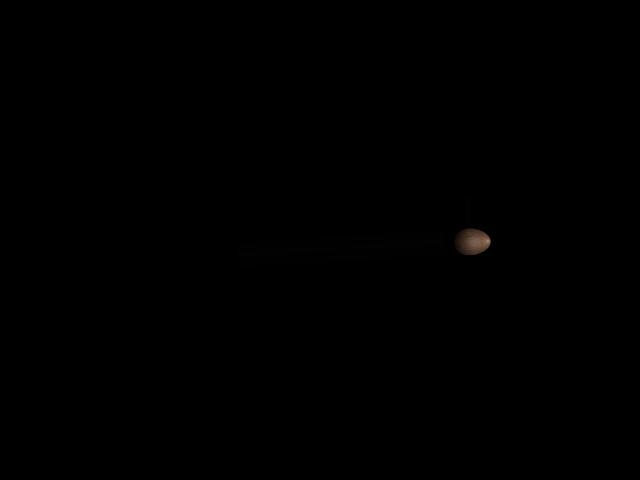egg: (452, 227, 491, 256)
